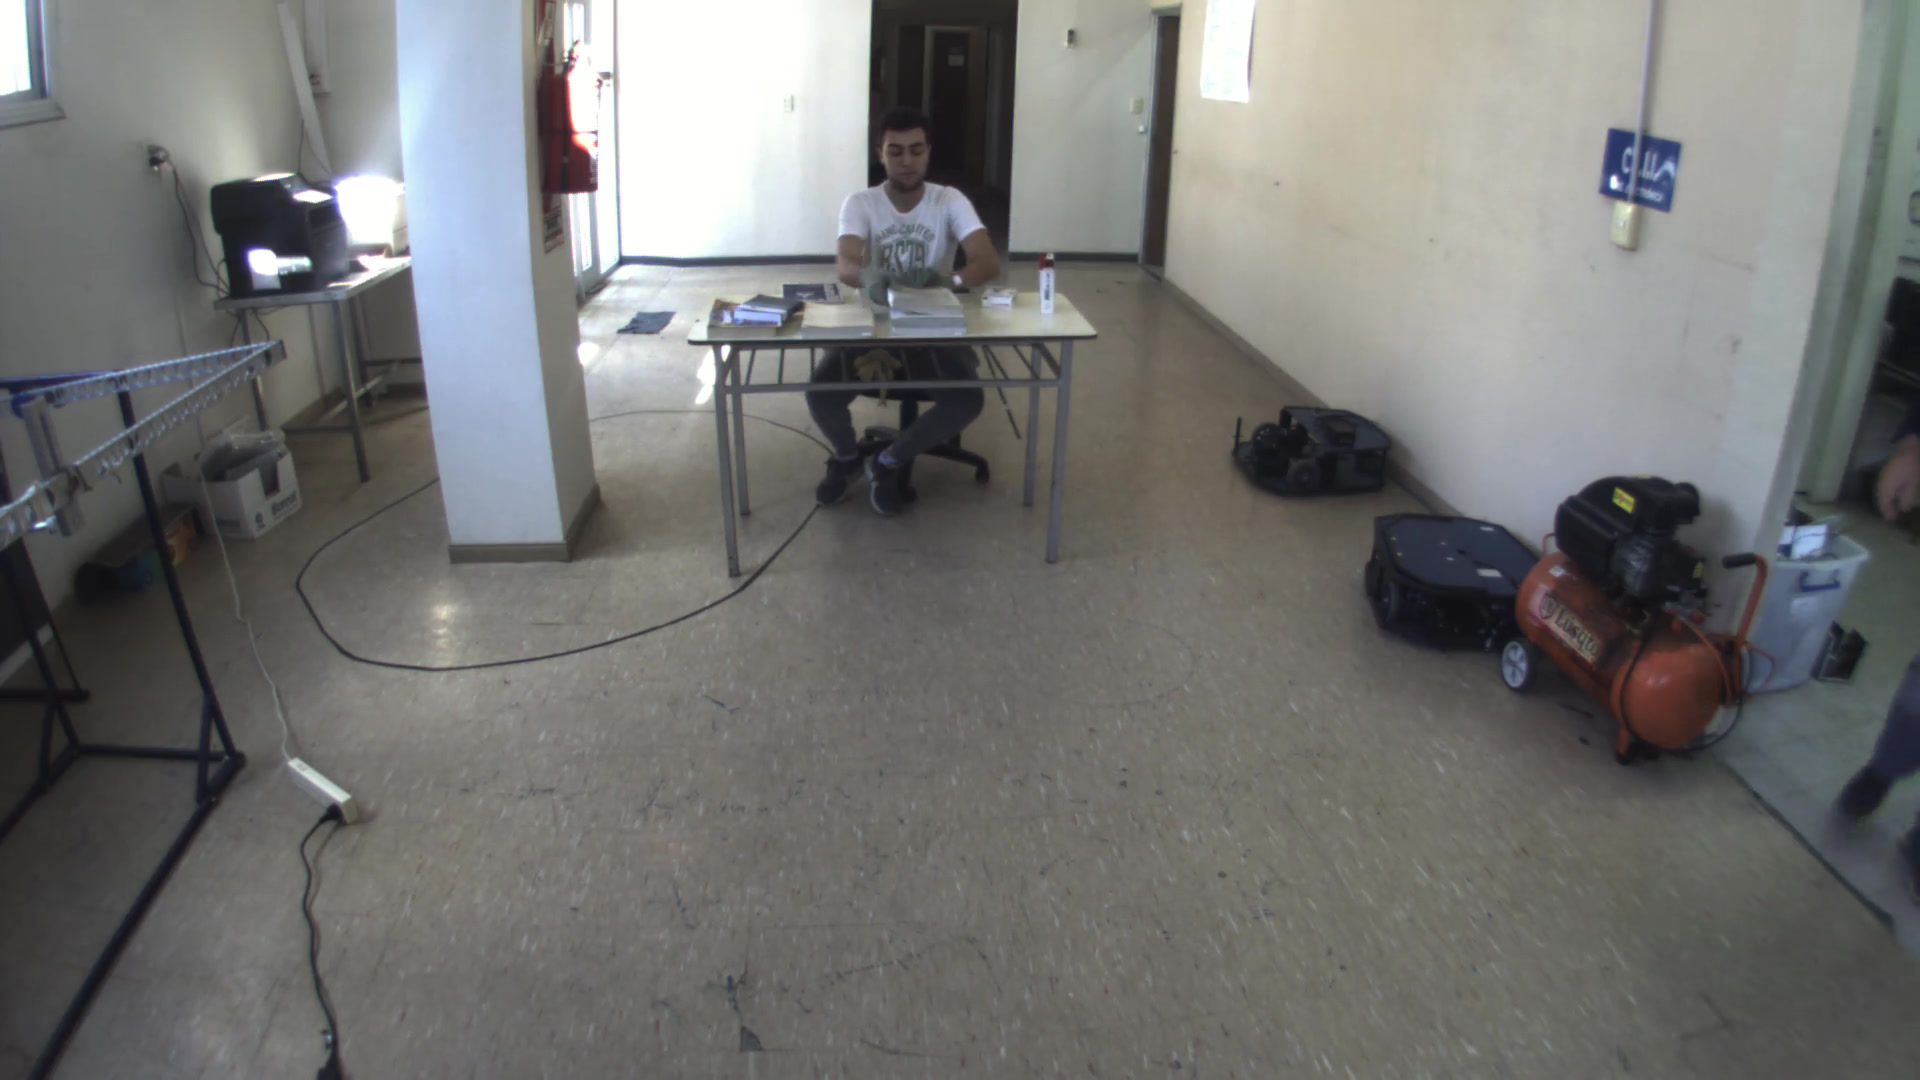hand: (848, 262, 895, 310), (895, 264, 956, 289)
